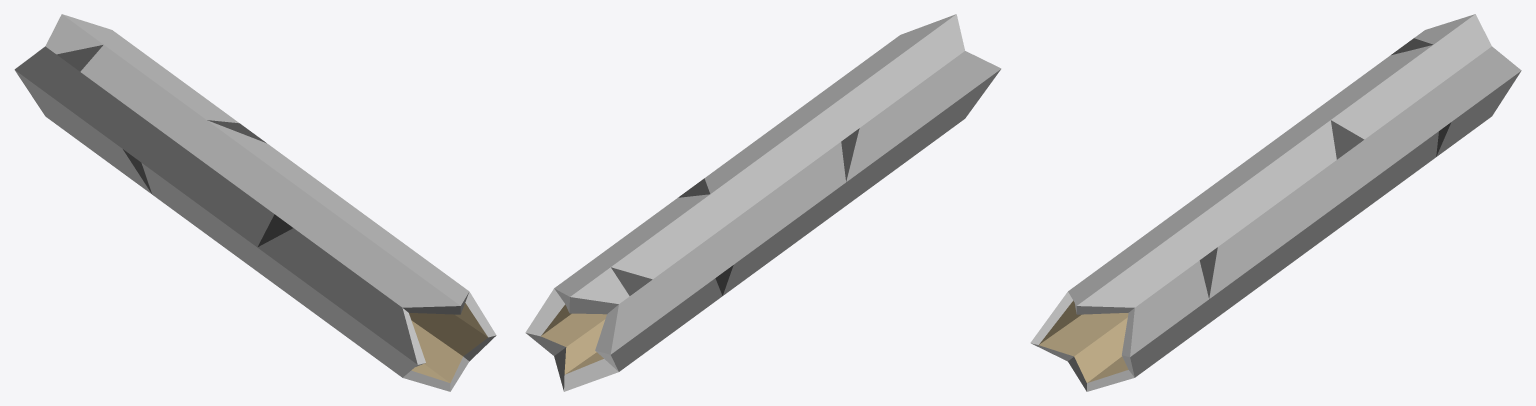
File: Branch_4.fbx
3 renders of one model, left to right at view 1: azimuth 30°, elevation 25°; view 2: azimuth 150°, elevation 25°; view 3: azimuth 330°, elevation 25°, orthographic. The views are drawn at different scales.
Parts seen in each view (by area): view 1: Branch3_mesh; view 2: Branch3_mesh; view 3: Branch3_mesh.
Part boxes in pixels (x1,y1,x2,y2): Branch3_mesh: (14, 14, 496, 391); Branch3_mesh: (525, 14, 1001, 391); Branch3_mesh: (1030, 14, 1521, 391).
Size of the model in its own units: 34.54 by 34.54 by 273.
